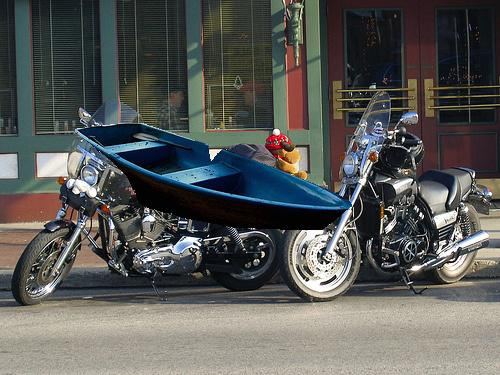tampered: (75, 124, 352, 230)
